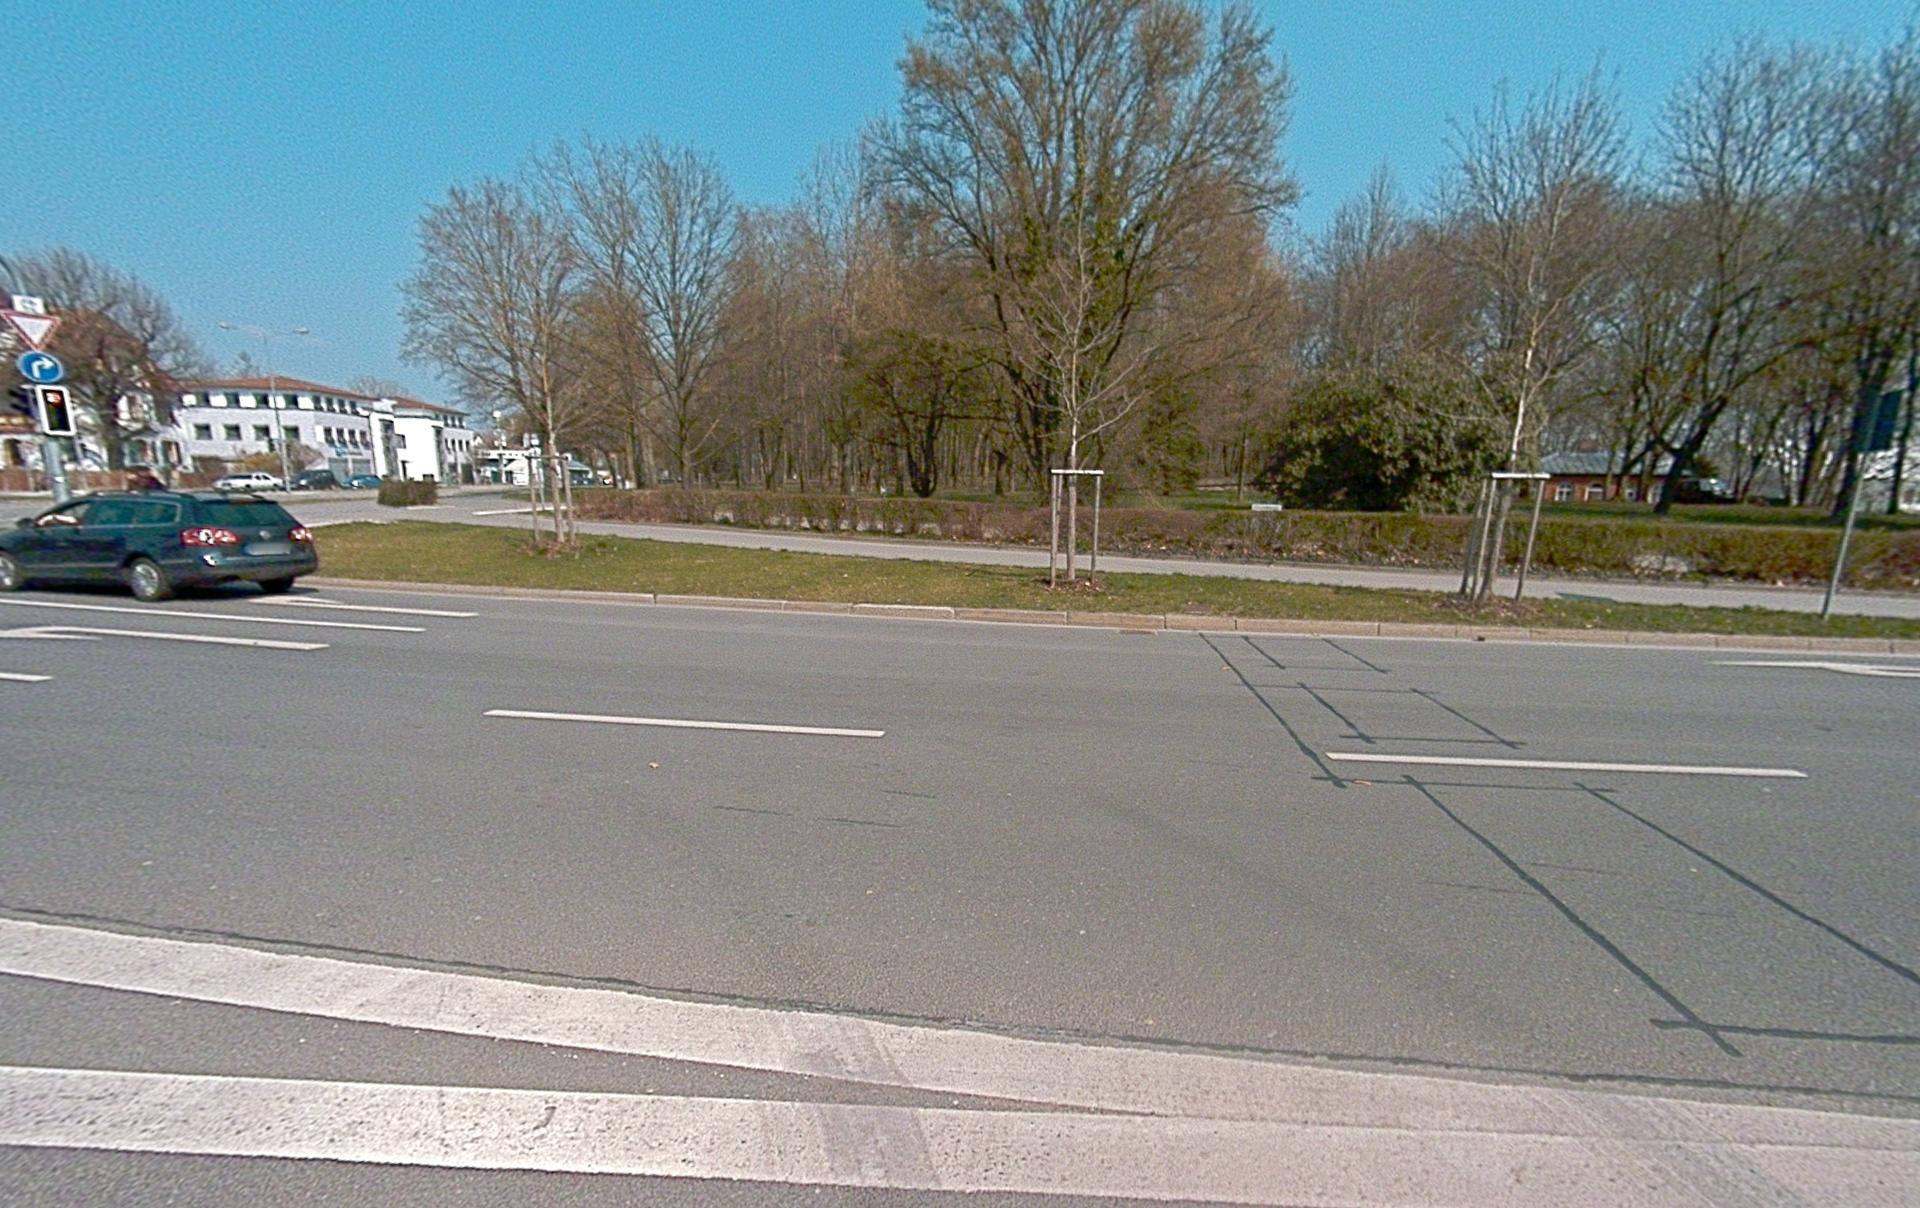car: (0, 491, 317, 600), (214, 470, 282, 490), (292, 469, 338, 488), (344, 475, 380, 488)
